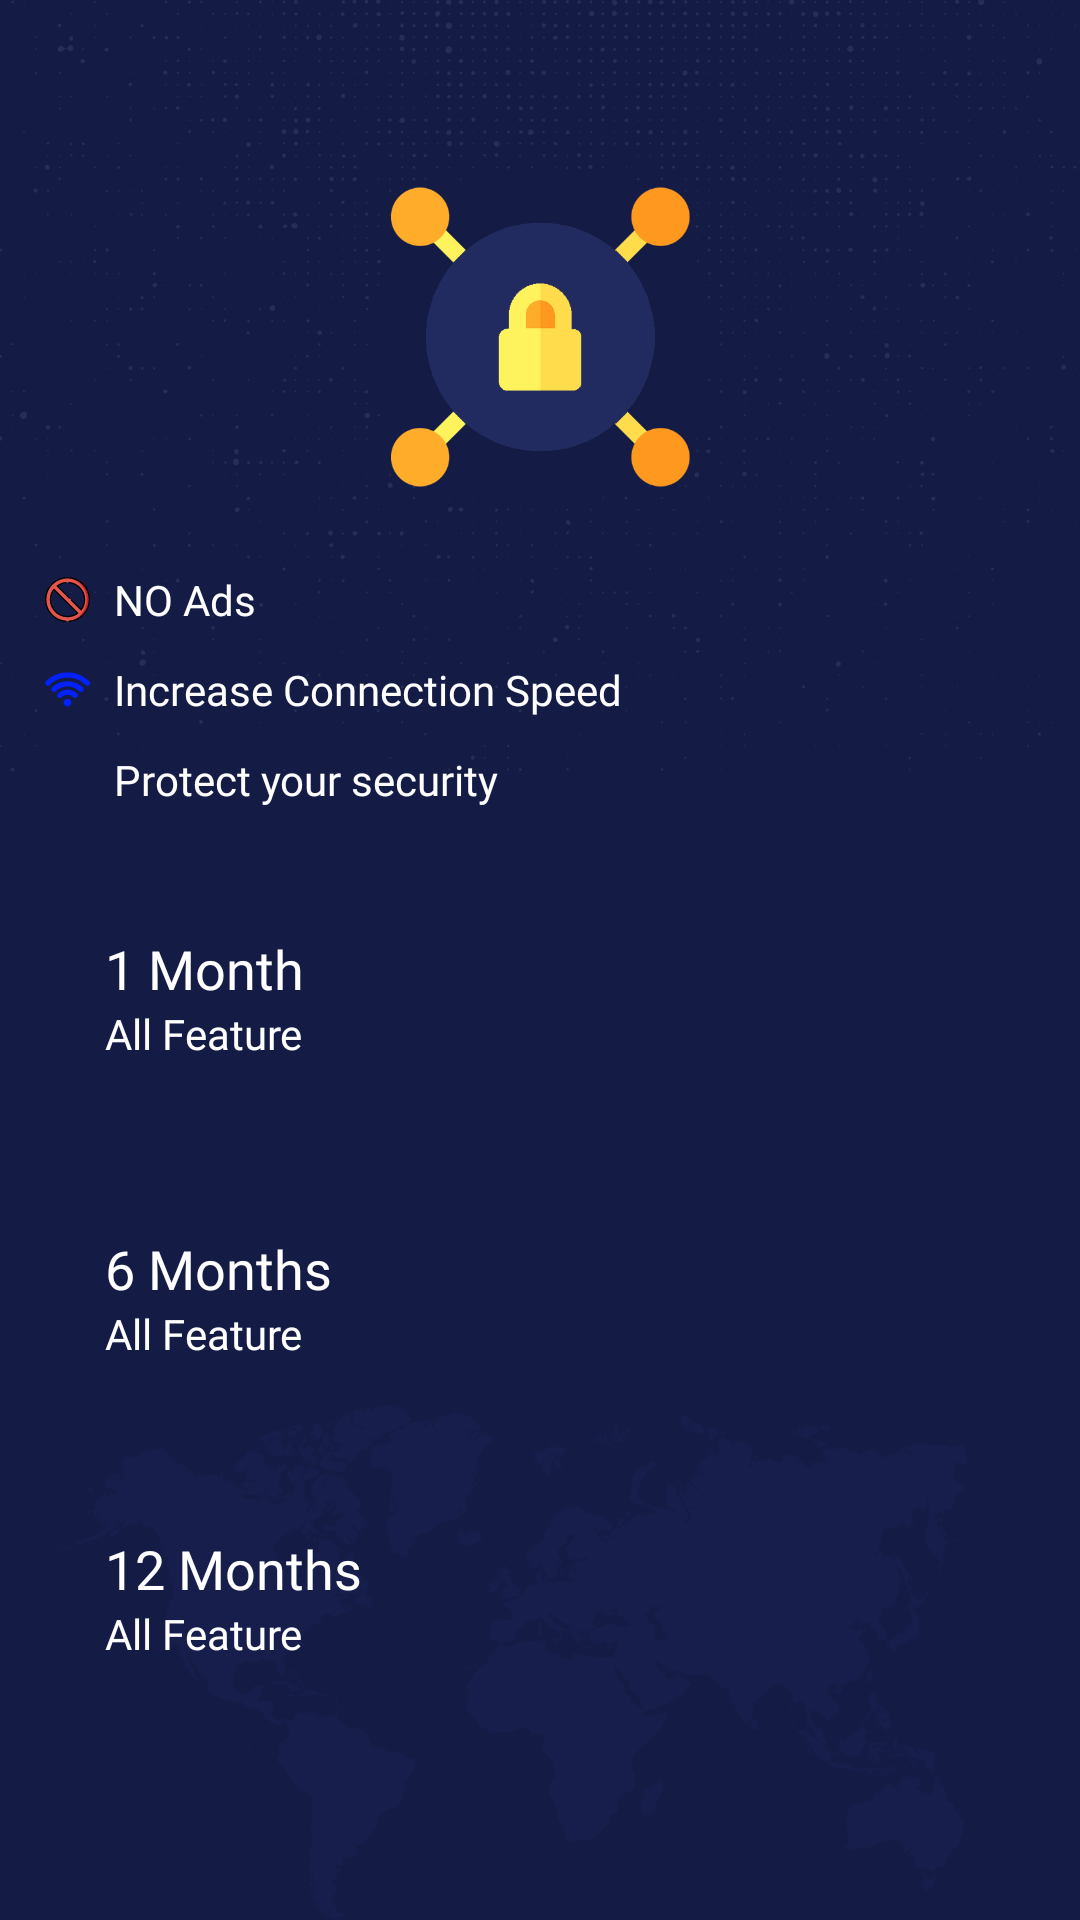

Named icons in this screenshot (1080 x 1920) and their bounding boxes, {"x1": x1, "y1": y1, "x2": x2, "y2": y2}:
forbidden: {"x1": 45, "y1": 577, "x2": 90, "y2": 622}
wifi: {"x1": 45, "y1": 672, "x2": 90, "y2": 707}
